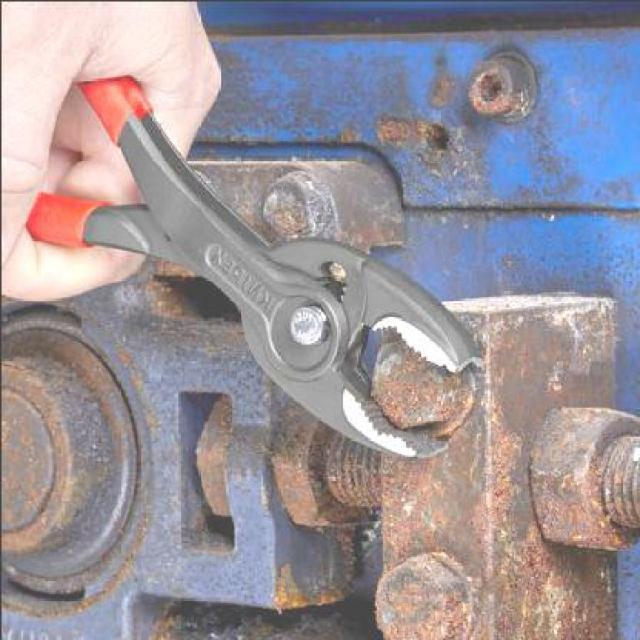pliers: (178, 208, 487, 454)
